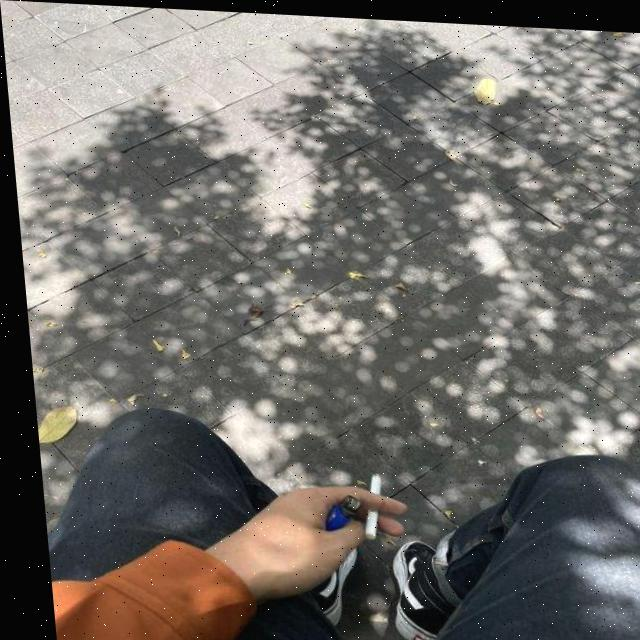cigarette: (350, 467, 377, 538)
